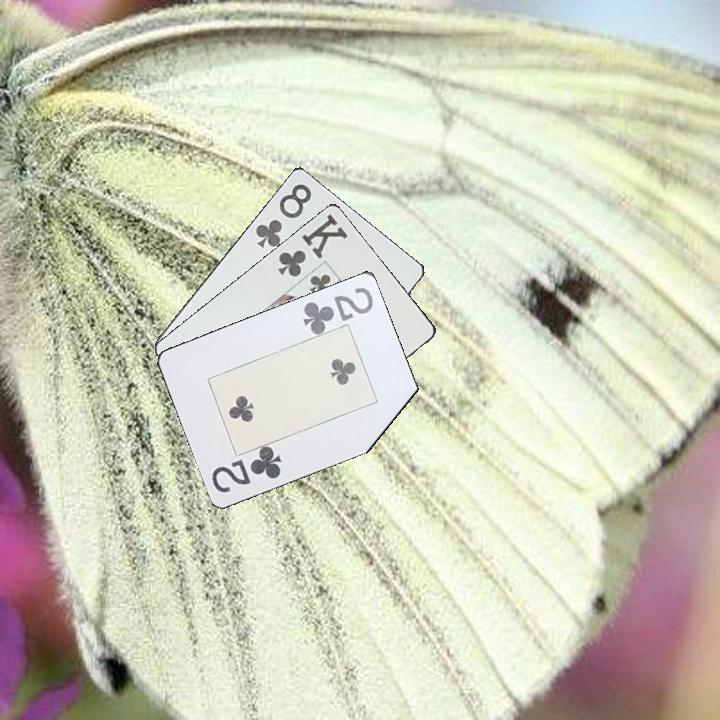2c: (299, 283, 376, 336), (208, 444, 285, 495)
8c: (251, 180, 315, 251)
Kc: (274, 210, 351, 280)
